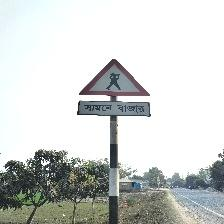Market-in-front: (77, 60, 151, 117)
